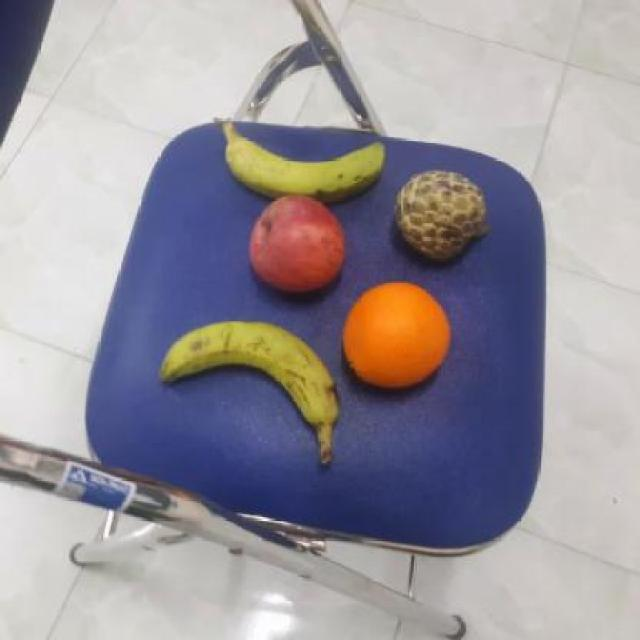apple: (244, 195, 351, 292)
banana: (156, 318, 338, 430), (216, 118, 387, 200)
oren: (336, 282, 456, 389)
sugar apple: (390, 164, 493, 261)
